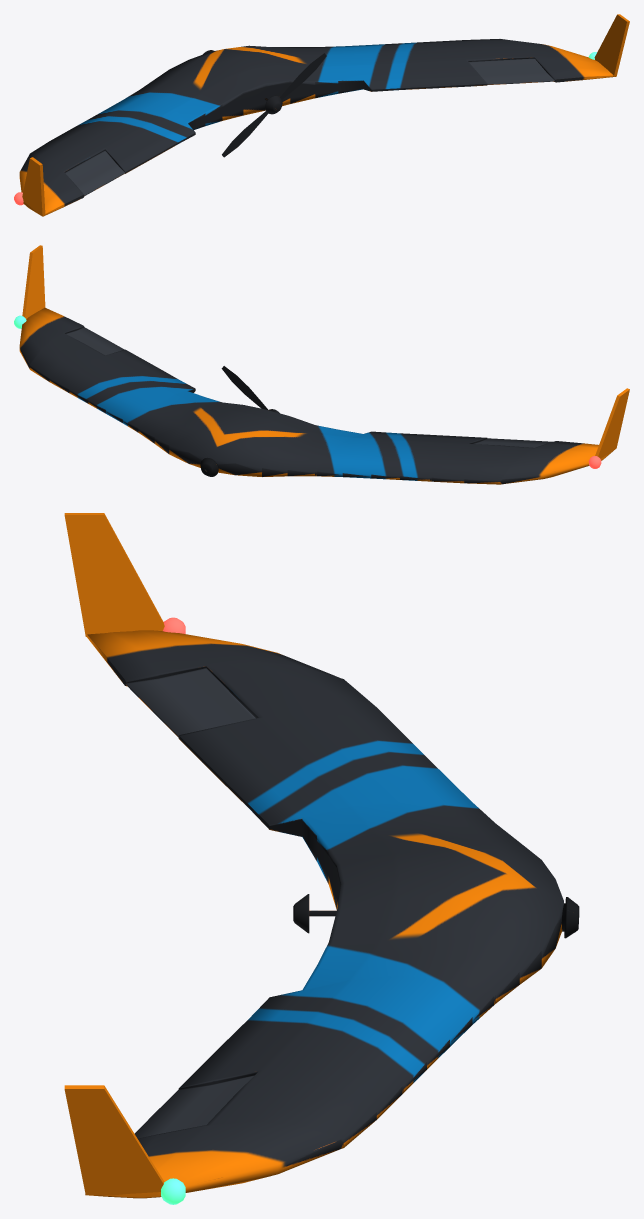
The model's file is wing.glb.
The picture shows the model from 3 angles, top to bottom: view 1: azimuth 30°, elevation 25°; view 2: azimuth 150°, elevation 25°; view 3: azimuth 270°, elevation 25°; orthographic projection. The views are drawn at different scales.
Parts seen in each view (by area): view 1: base, flapR, flapL, wingletR, Prop, wingletL; view 2: base, wingletR, wingletL, flapR, flapL, Prop; view 3: base, wingletL, wingletR, flapL, flapR.
Boxes of the visible parts, x1,y1,x2,y2 form: base: (19, 39, 616, 216); flapR: (469, 58, 554, 84); flapL: (65, 150, 125, 196); wingletR: (594, 14, 629, 76); Prop: (222, 53, 326, 157); wingletL: (22, 157, 45, 216); base: (19, 307, 613, 484); wingletR: (22, 245, 45, 319); wingletL: (595, 388, 629, 458); flapR: (66, 327, 124, 355); flapL: (473, 438, 552, 447); Prop: (221, 366, 279, 413); base: (85, 630, 563, 1198); wingletL: (64, 513, 164, 636); wingletR: (64, 1085, 164, 1195); flapL: (125, 668, 255, 737); flapR: (134, 1075, 254, 1138).
Bounding box in the file's own units: 10.27 × 1.61 × 3.88.
4 materials, 1 textured.
